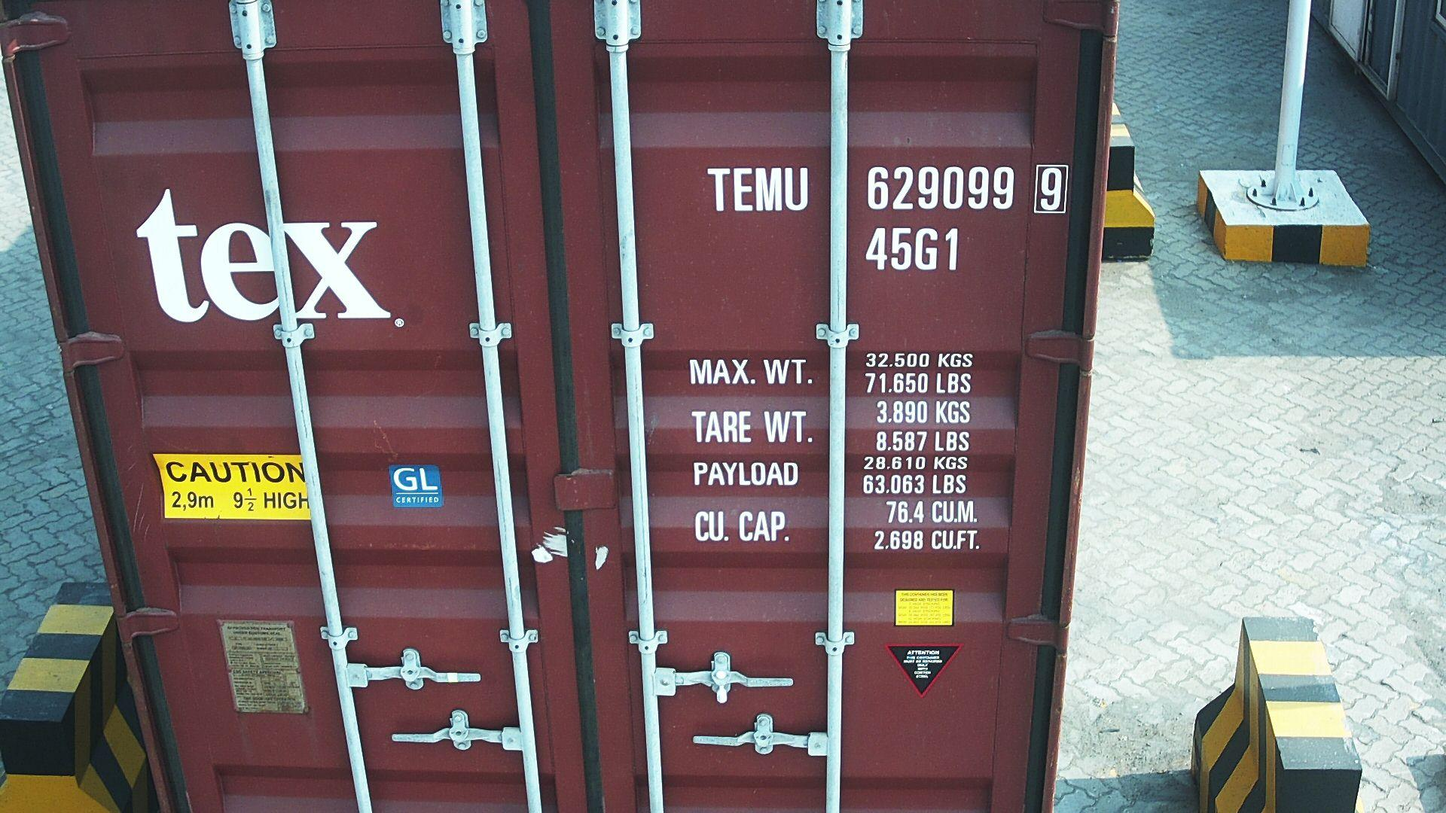container-numbers: (703, 161, 1073, 217), (860, 224, 966, 274)
